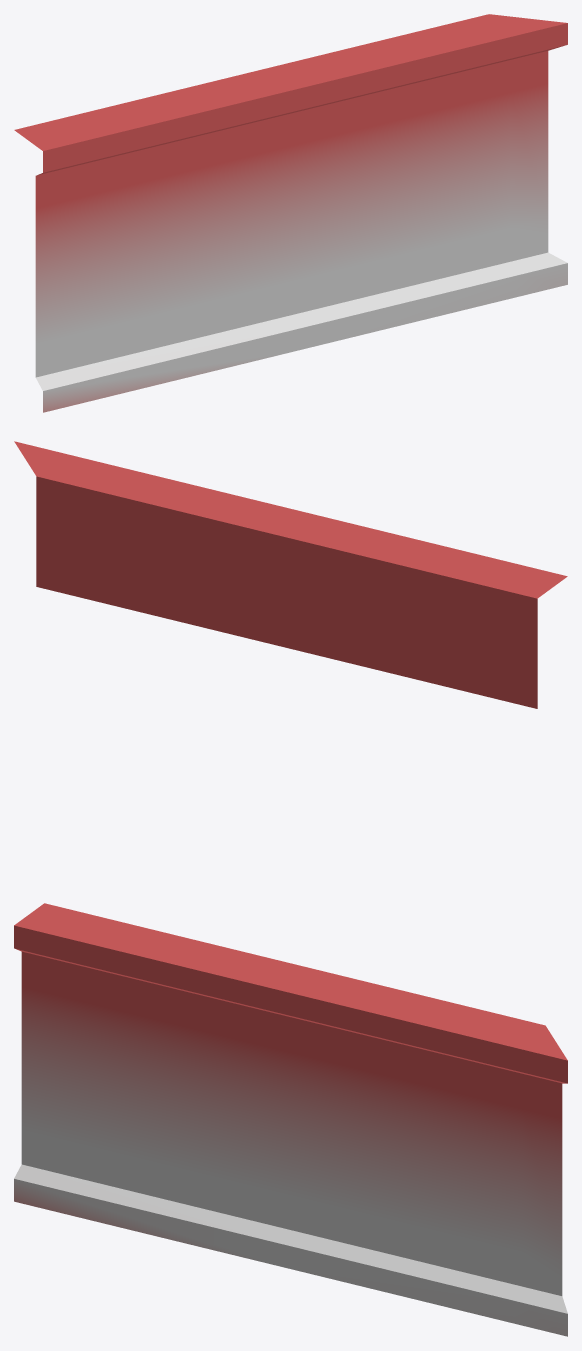
The model's file is Cornice_Metal_R.gltf.
3 renders of one model, top to bottom at view 1: azimuth 30°, elevation 25°; view 2: azimuth 150°, elevation 25°; view 3: azimuth 330°, elevation 25°, orthographic. The views are drawn at different scales.
Parts seen in each view (by area): view 1: Cornice_Metal_R; view 2: Cornice_Metal_R; view 3: Cornice_Metal_R.
Part boxes in pixels (bbox=[...]): Cornice_Metal_R: bbox=[14, 14, 567, 412]; Cornice_Metal_R: bbox=[14, 441, 567, 708]; Cornice_Metal_R: bbox=[14, 903, 567, 1336].
Bounding box in the file's own units: 2.1 × 1 × 0.2.
